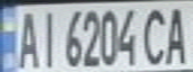0: (100, 3, 121, 68)
2: (78, 3, 103, 68)
4: (118, 5, 142, 66)
6: (60, 4, 84, 69)
A: (9, 7, 42, 70), (160, 2, 193, 65)
C: (139, 2, 172, 66)
I: (33, 6, 60, 69)
